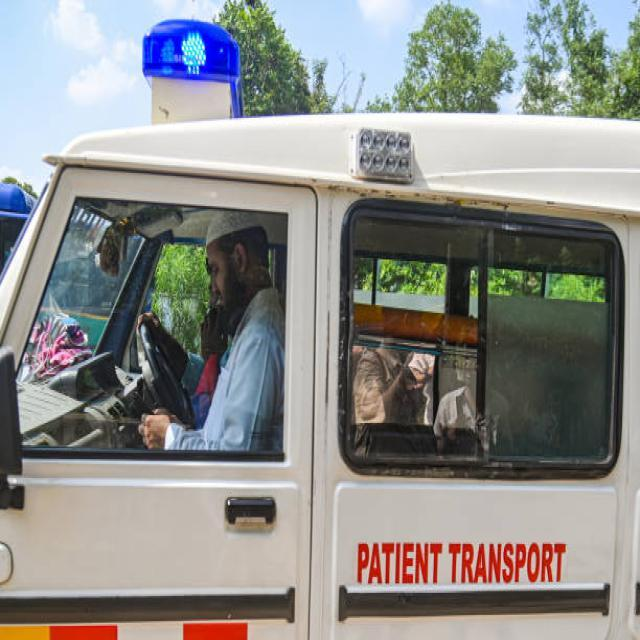ambulance: (2, 28, 640, 640)
